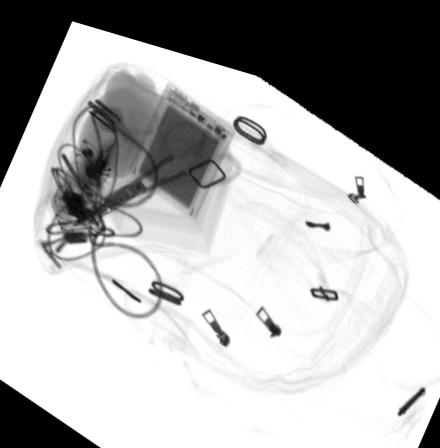Powerbank: (126, 67, 237, 209)
Scissors: (69, 104, 241, 221)
